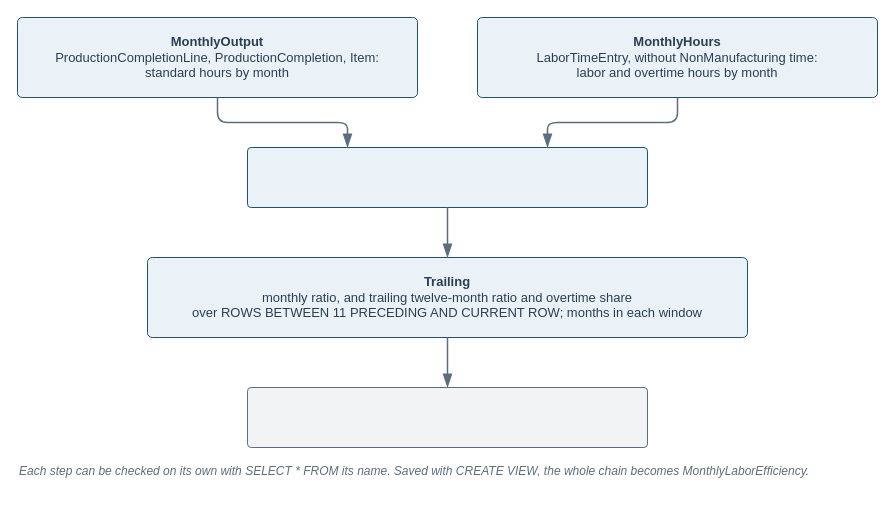
The diagram is 895 pixels wide and 517 high, and some of its shapes have lost their labels. The centre of each missing label's shape, as x and y in pixels:
"Final SELECT keeps the months whose window holds twelve months" belongs at pixel 447 417.
"Monthly joins the two steps on Month" belongs at pixel 447 177.
